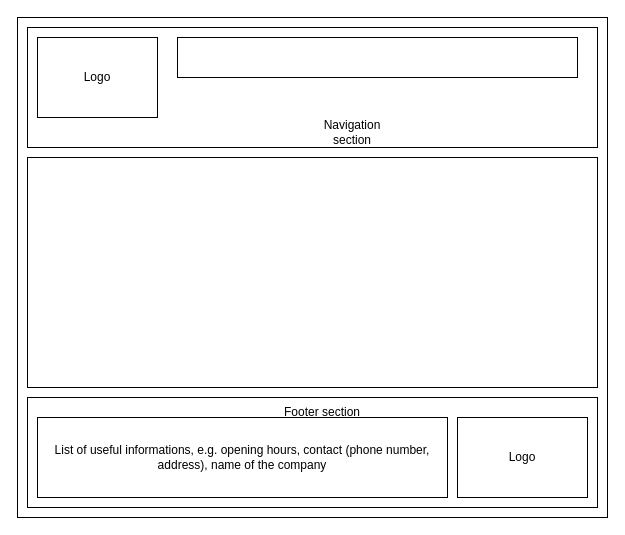
Some shapes in this 625 by 535 pixel diagram are drawn without their labels. The centre of each missing label's shape, as x and y in pixels:
Main content: pixel 312 272
Menus (3 navigation links to the pages): pixel 377 57
